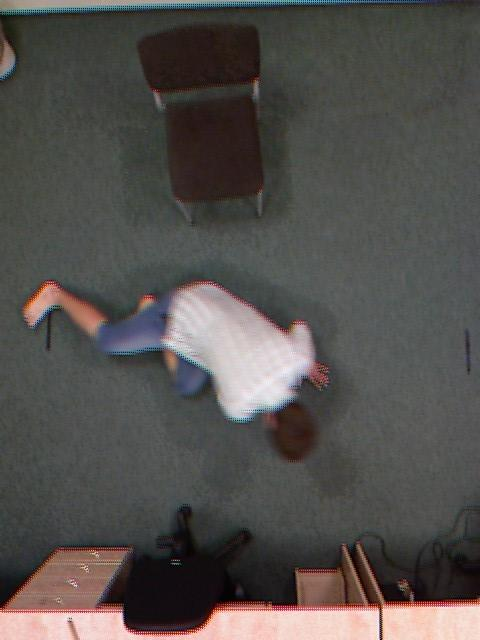fall: (107, 141, 255, 587)
